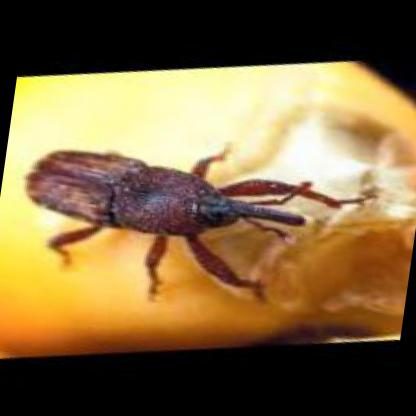ash weevil: (24, 149, 348, 298)
